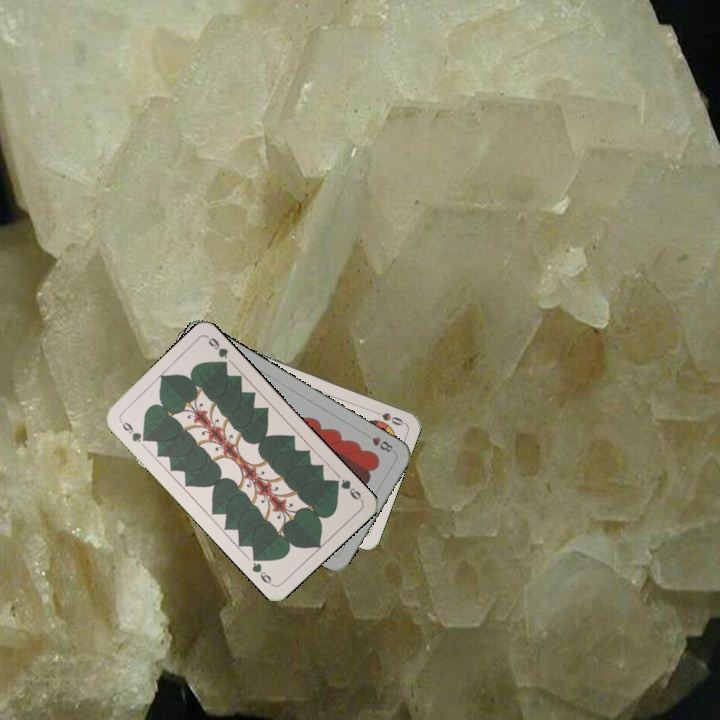G9: (116, 416, 151, 446), (329, 475, 365, 504)
H8: (368, 433, 395, 455)
SO: (367, 405, 406, 428)
